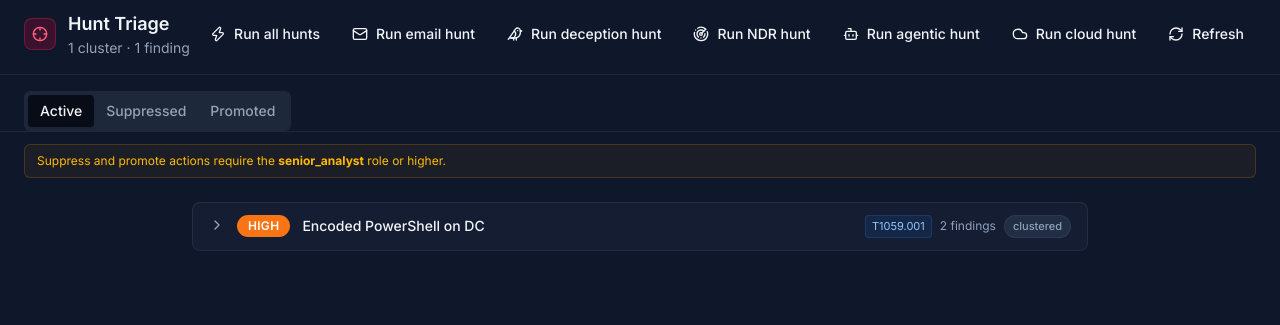
Test: HuntTriagePage › hides suppress/promote buttons for plain analyst role
Expected: the element with test id "hunt-cluster-card" is shown, [192,202,1088,250]
Expected: the element with test id "hunt-rbac-notice" is shown, [24,144,1256,178]
# Expand to see findings
Click the button with test id "hunt-cluster-expand": [217, 225] box [209,217,225,233]
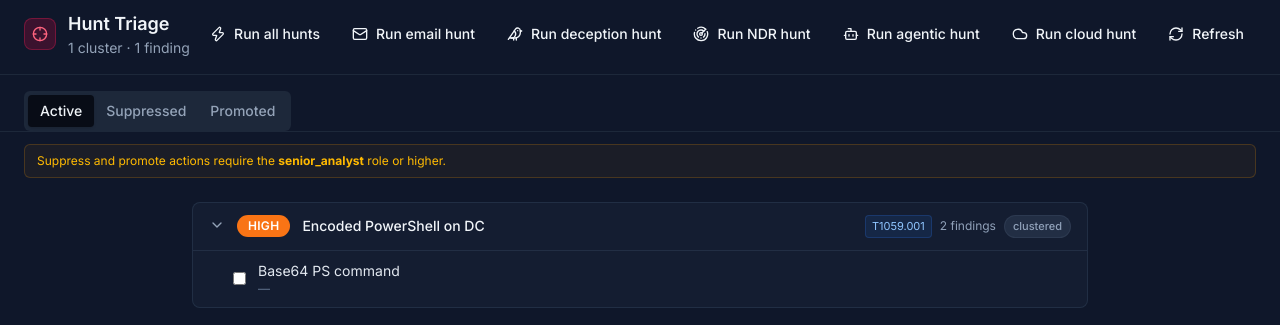
Expected: the element with test id "hunt-finding-row" is shown, [233,262,400,296]
